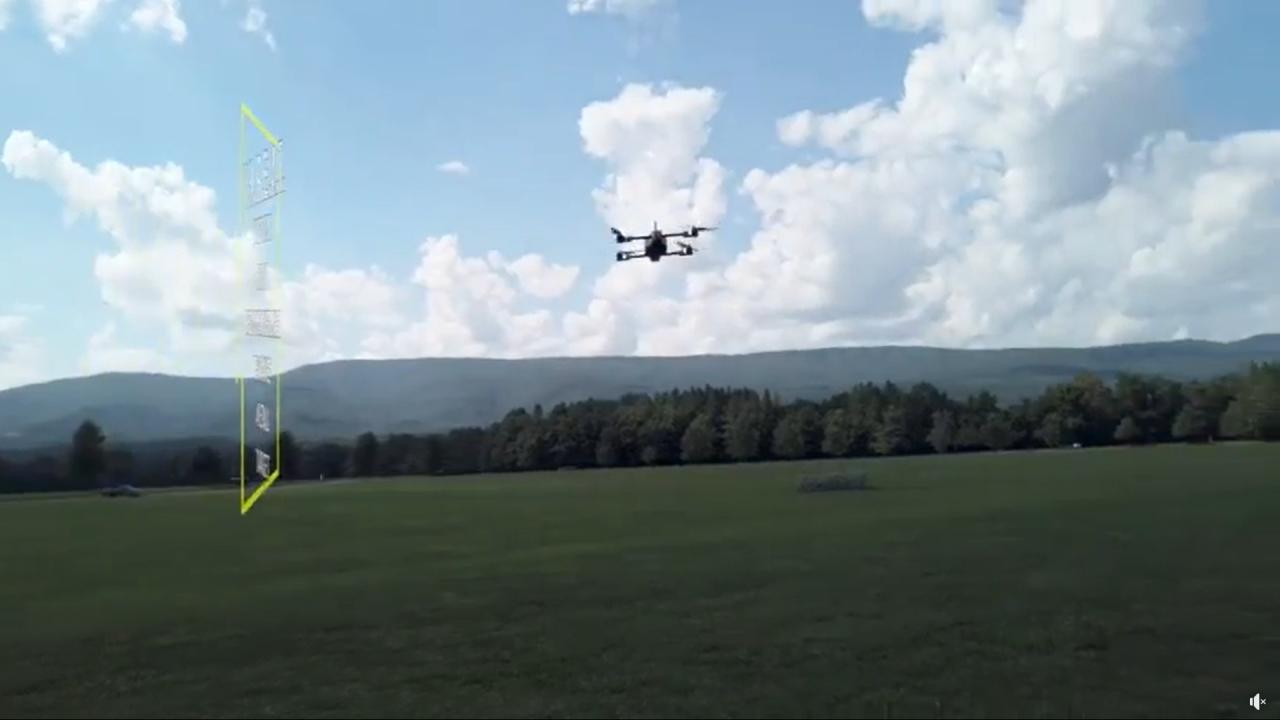Drone: (597, 210, 726, 276)
